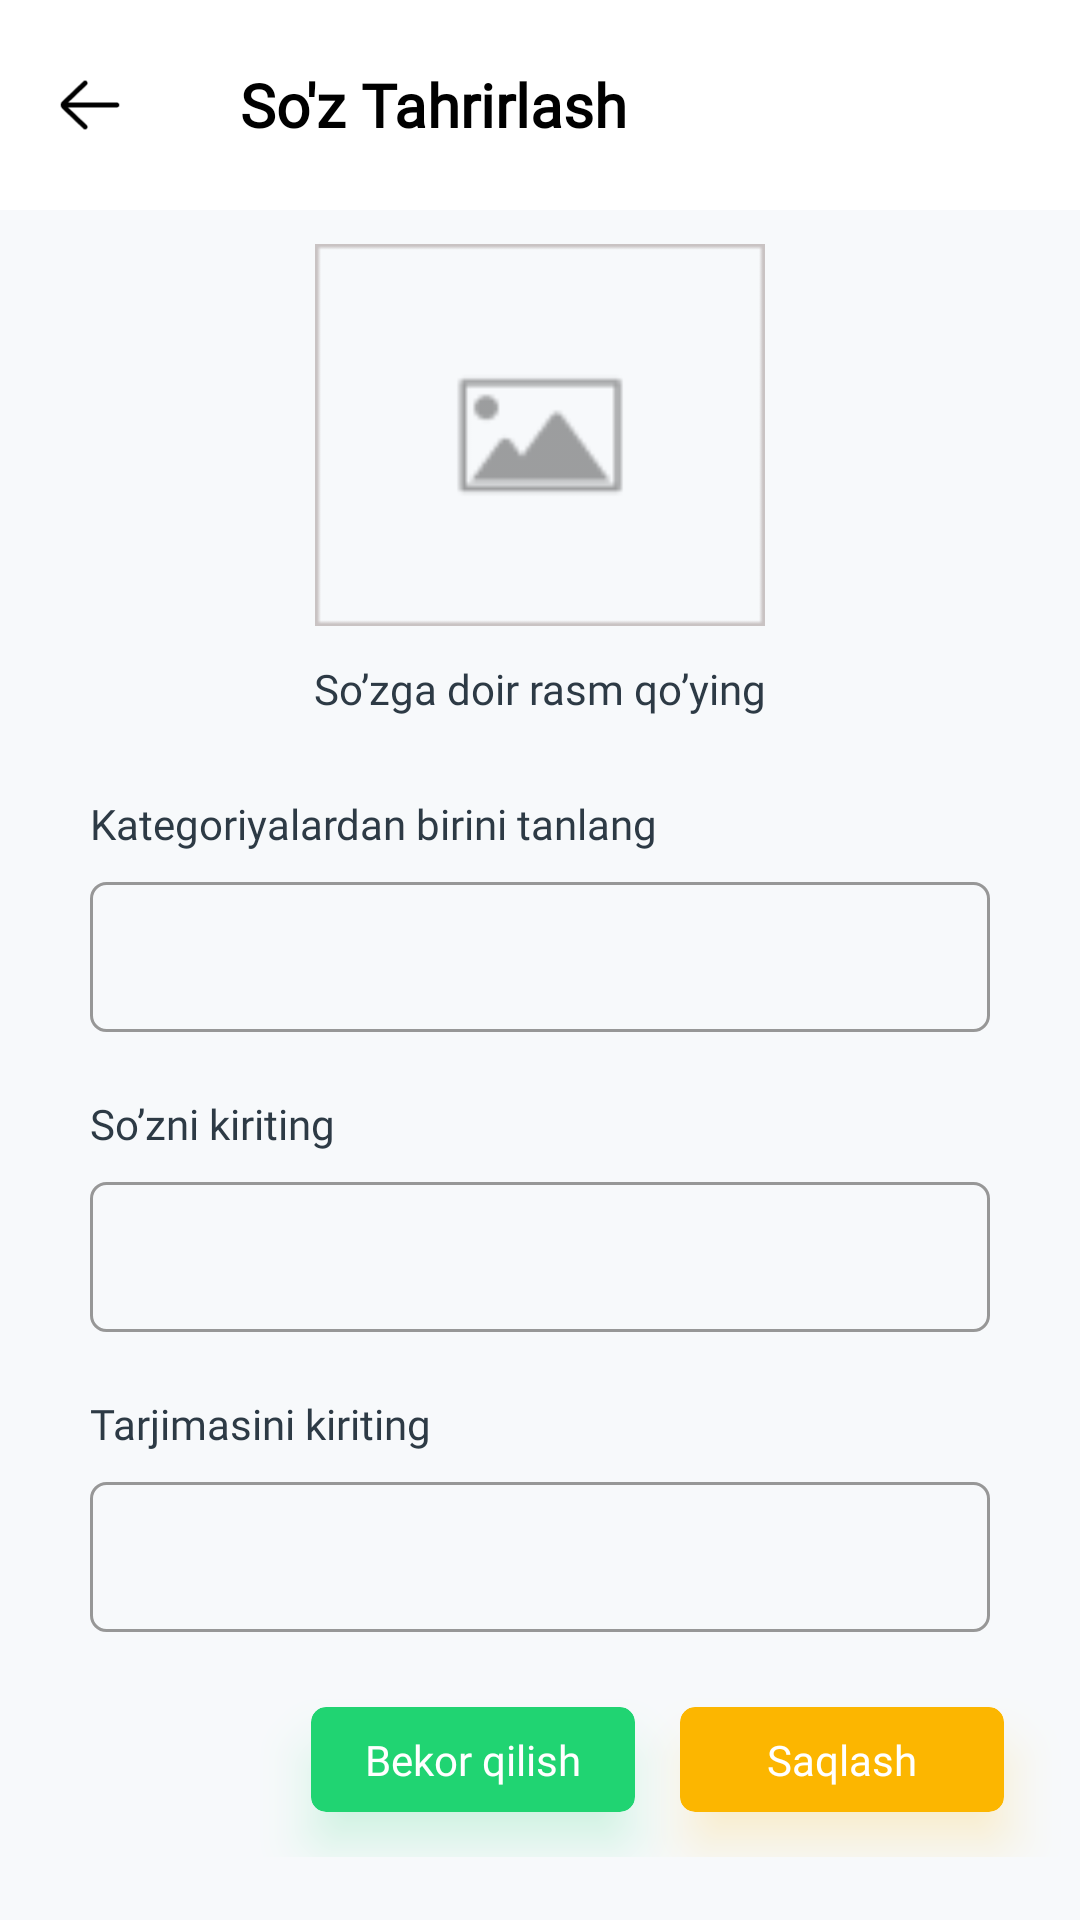

Point at icon controls on the screen. Image size 1080px x 1920px, points as (x,y).
left: (90,105)
